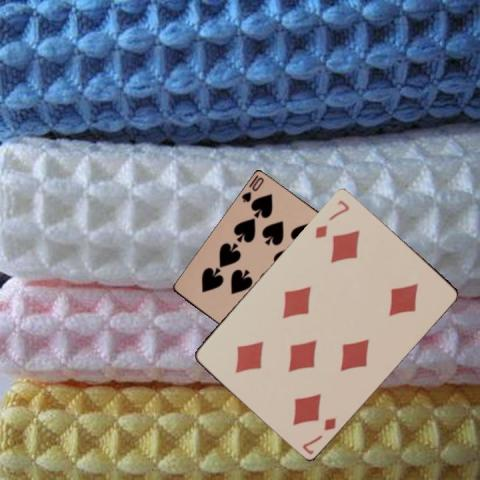10s: (239, 174, 265, 204)
7d: (311, 196, 351, 239), (299, 414, 338, 455)
